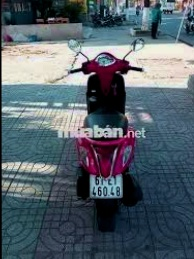Bien-so: (84, 171, 117, 194)
